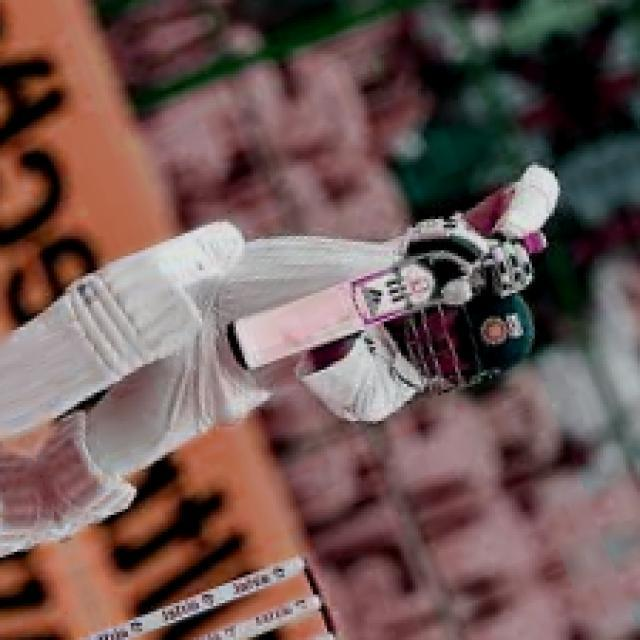bat: (172, 268, 440, 385)
toe: (219, 321, 250, 374)
